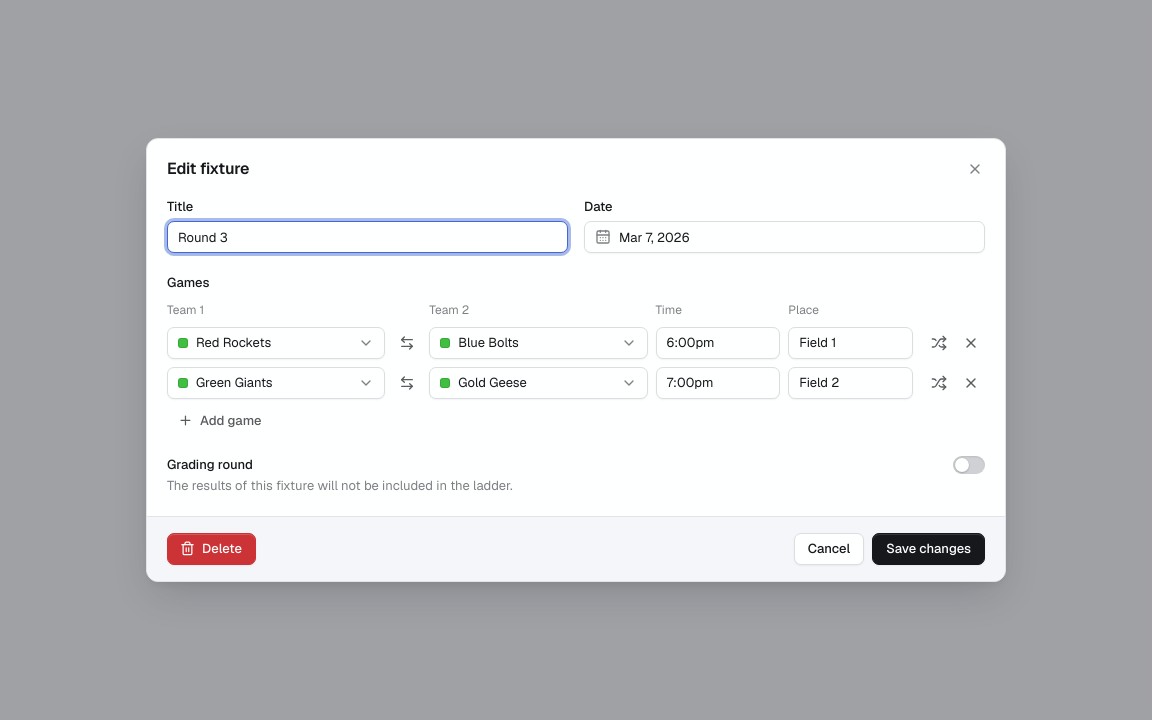
Scenario: FixtureEditDialog › keeps the dialog open and shows the server error when saving fails
Click the button "Save changes" at (929, 549), box [872,533,985,565]
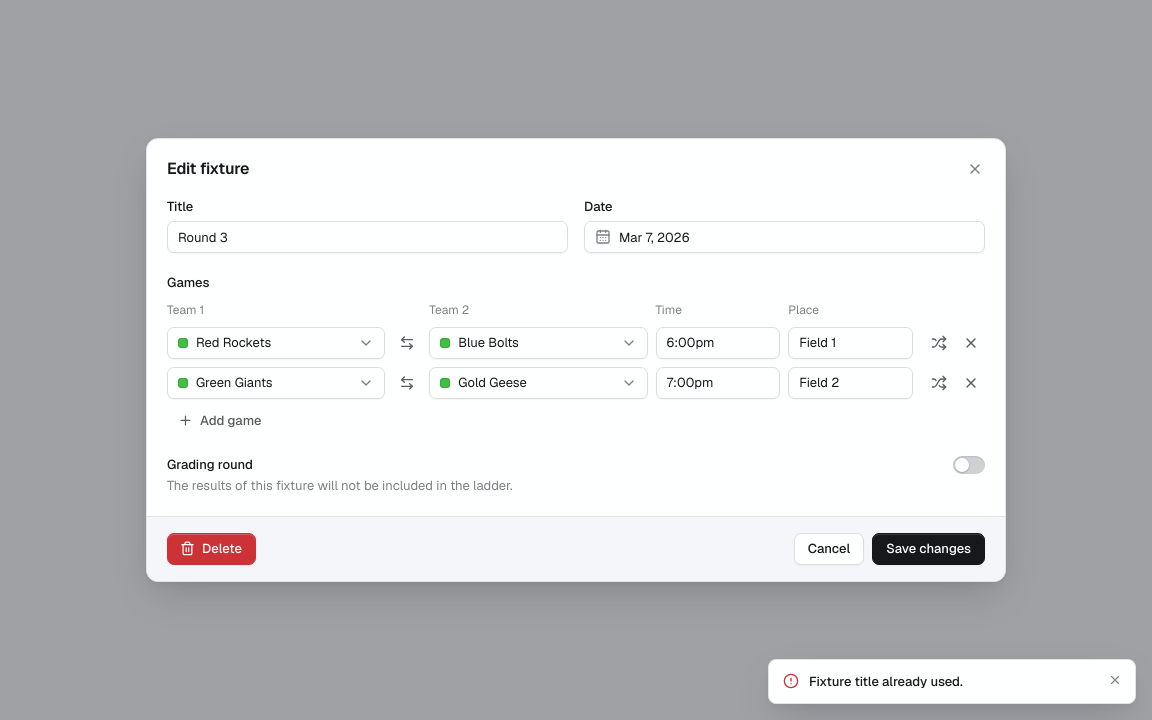
Expected: the dialog "Edit fixture" is shown, [146,138,1006,582]
Result: the message reads "Fixture title already used." at [809,672,963,690]
